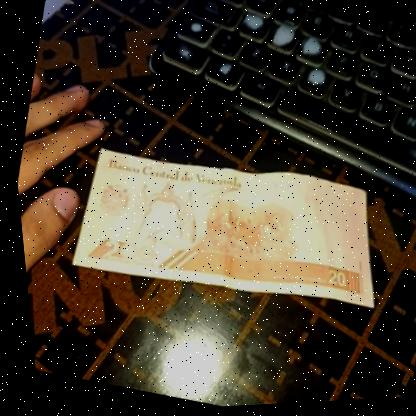twenty-back-vef: (56, 120, 397, 339)
